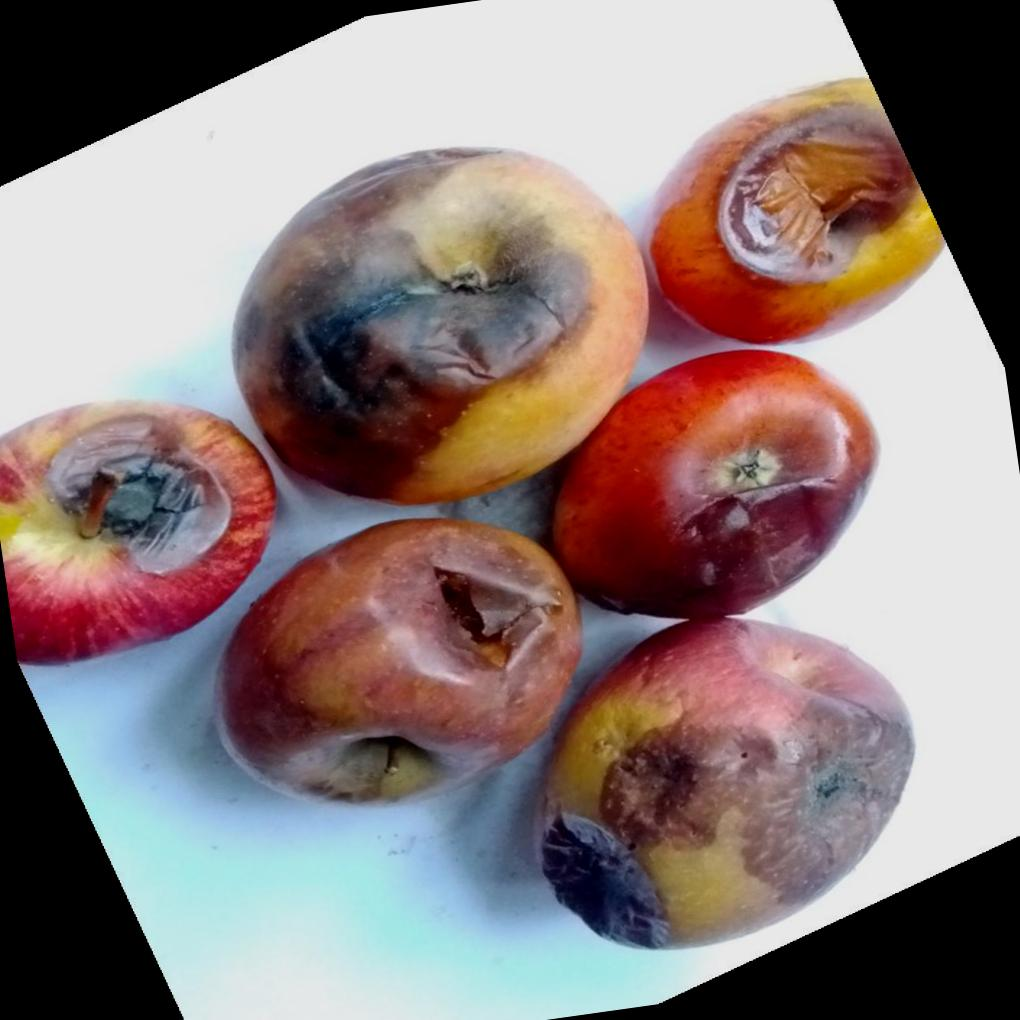FreshOrange: (0, 72, 945, 948)
